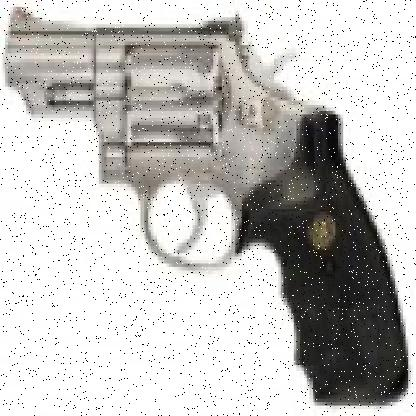pistol: (8, 3, 408, 405)
